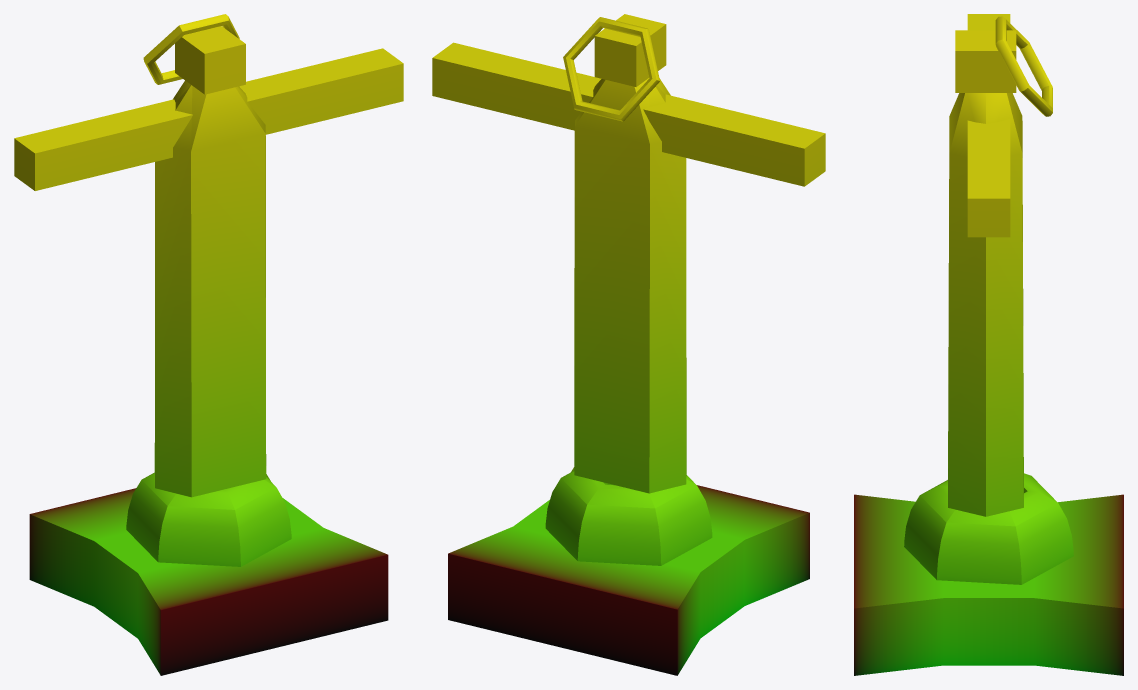
File: tuong_chua_kito_vua_cong_truong.far.glb
The picture shows the model from 3 angles, left to right: view 1: azimuth 30°, elevation 25°; view 2: azimuth 150°, elevation 25°; view 3: azimuth 270°, elevation 25°; orthographic projection. The views are drawn at different scales.
Visible parts, largest first — view 1: tuong_chua_kito_vua_cong_truong; view 2: tuong_chua_kito_vua_cong_truong; view 3: tuong_chua_kito_vua_cong_truong.
Part boxes in pixels (bbox=[...]): tuong_chua_kito_vua_cong_truong: bbox=[14, 14, 403, 675]; tuong_chua_kito_vua_cong_truong: bbox=[432, 14, 825, 675]; tuong_chua_kito_vua_cong_truong: bbox=[854, 14, 1123, 675].
Size of what is drawn, in the model's own units: 23.5 by 35.05 by 14.5.
